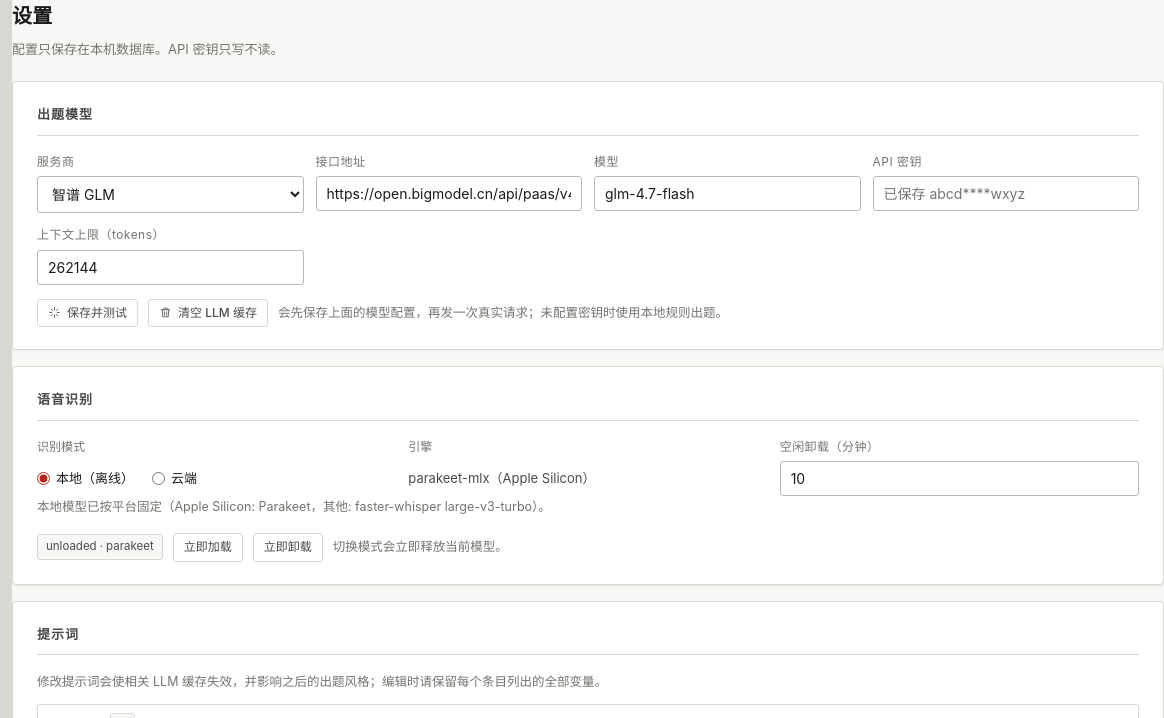
Test: SettingsView › reports LLM connection test result
Click the button "保存并测试" at (88, 313), box 37,299 -> 138,327
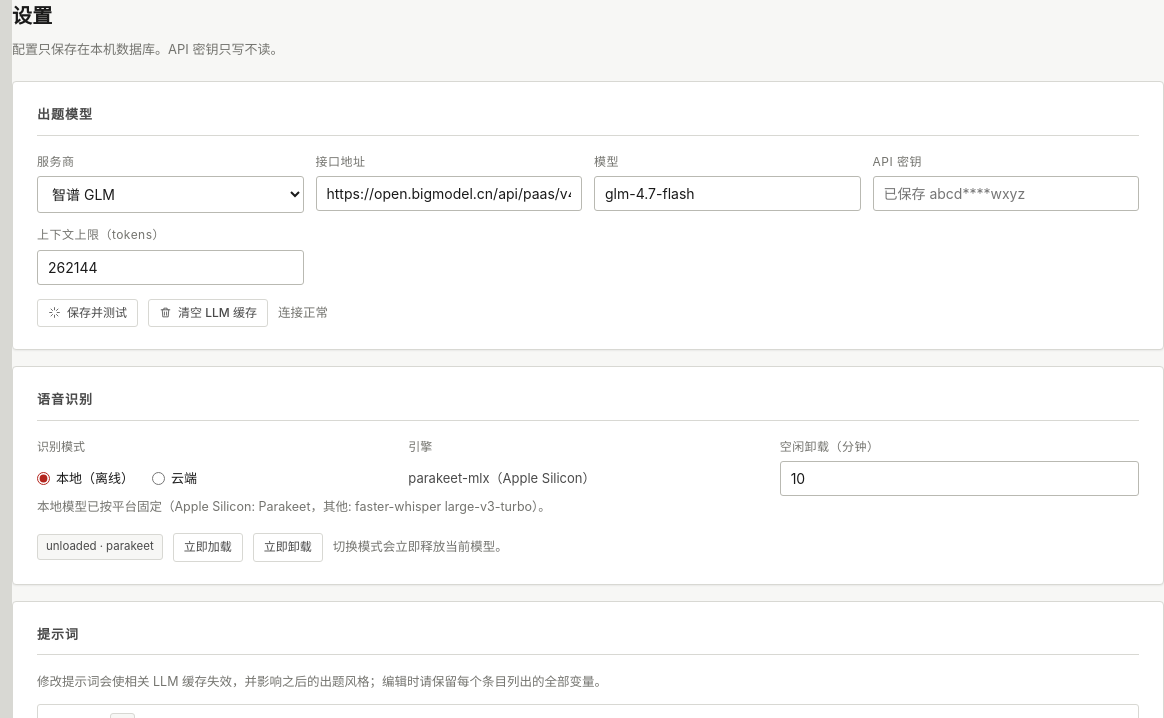
Expected: the text "连接正常" is shown, 278,302 -> 328,324
